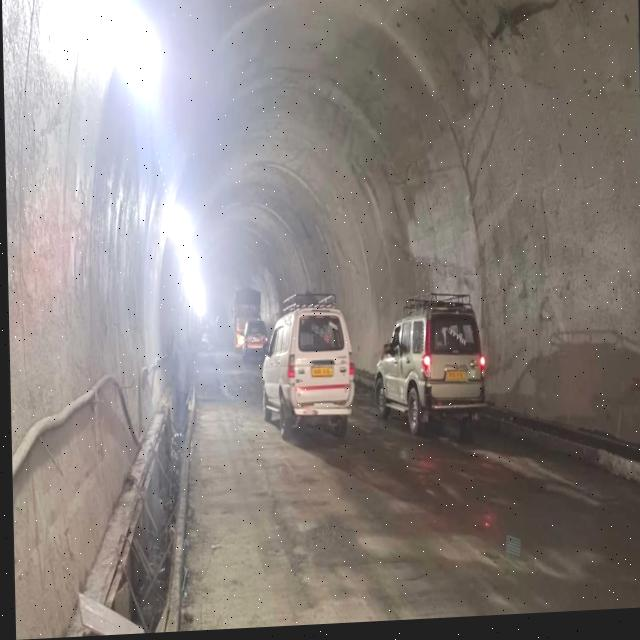plate: (308, 366, 334, 383), (442, 372, 466, 388)
